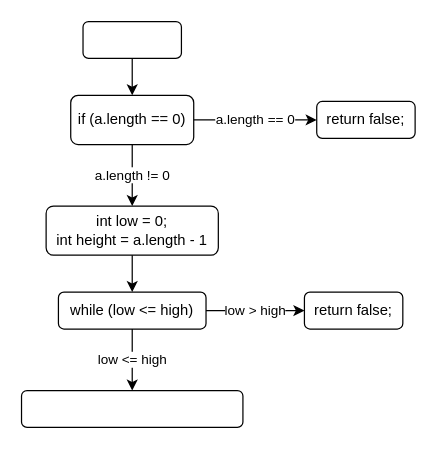
The diagram is 437 pixels wide and 449 high, and some of its shapes have lost their labels. The box of each missing label's shape, as (x1, y1, x2, y2) in pixels:
input(a,b): (82, 20, 181, 58)
int middle = (low + height) / 2: (20, 389, 243, 427)
